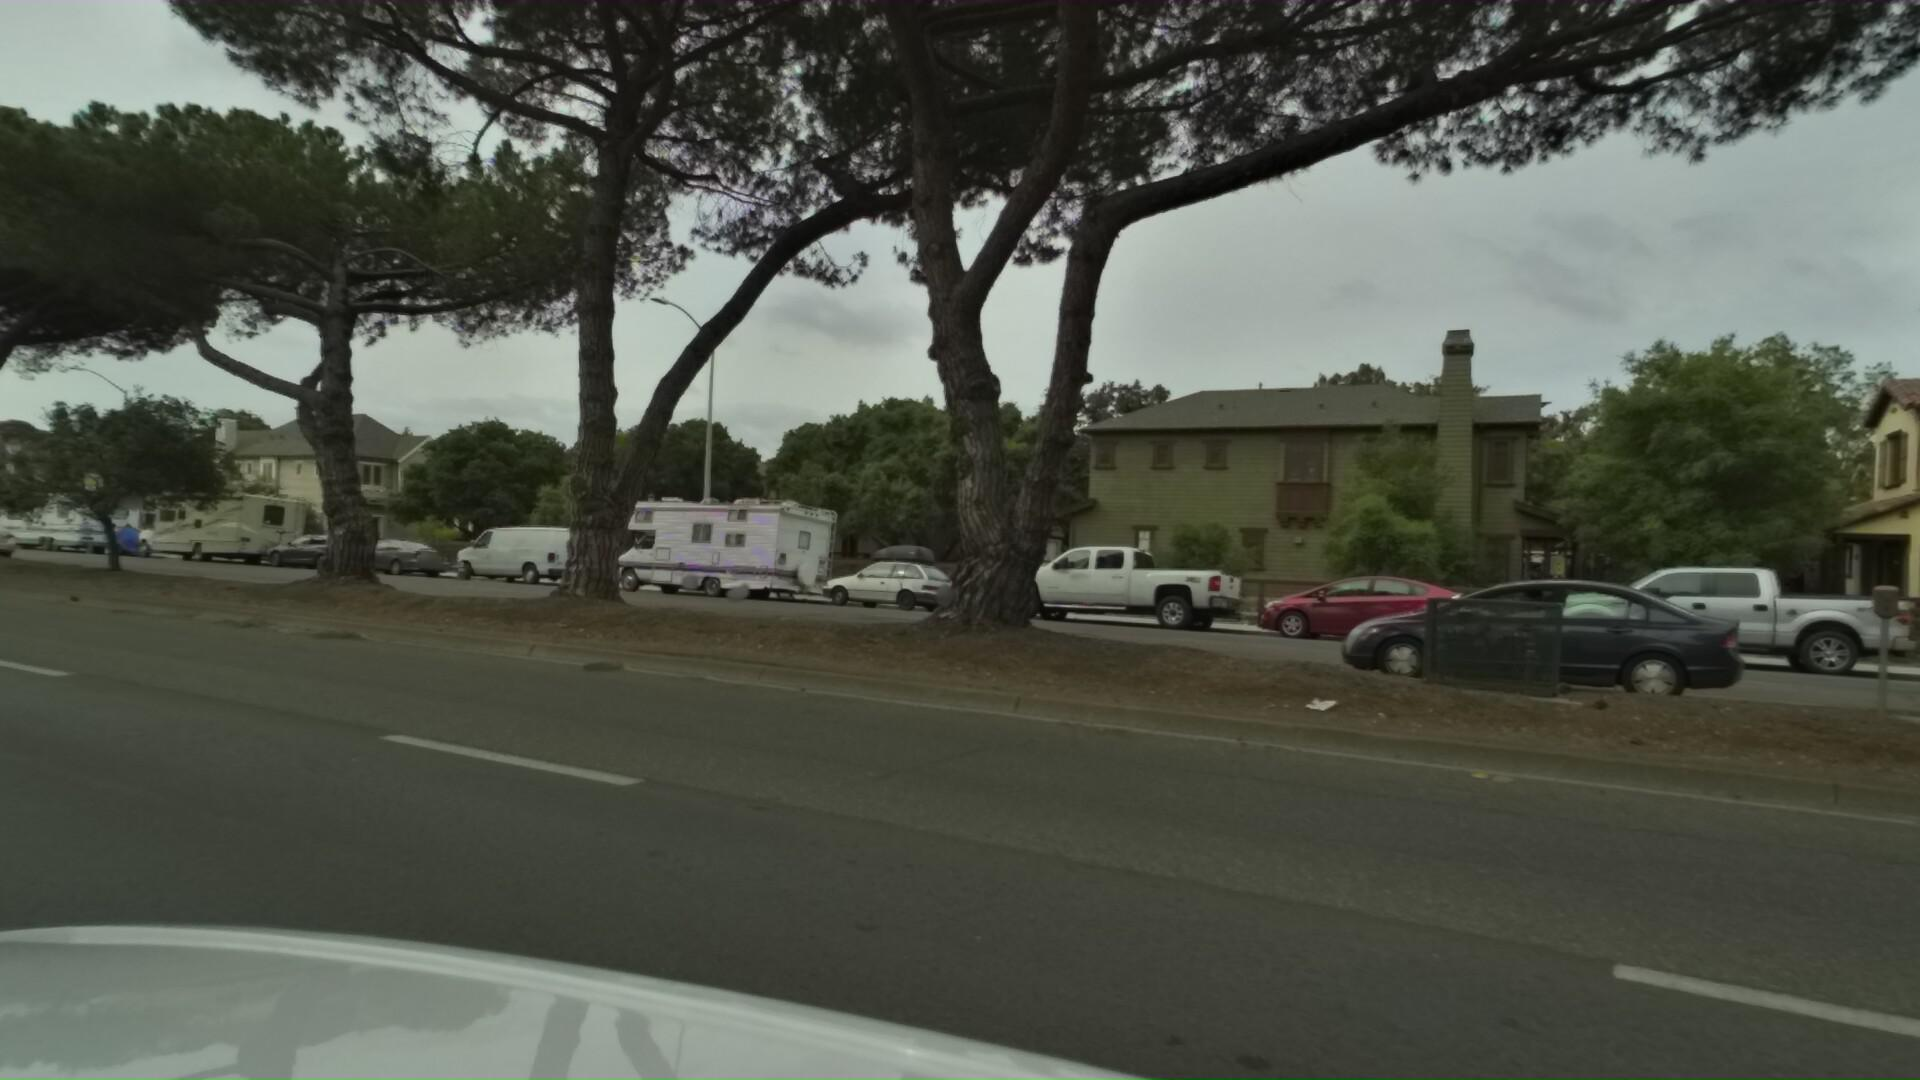bicycle: (0, 522, 40, 555)
car: (1232, 563, 1621, 716), (1487, 553, 1878, 688), (957, 535, 1233, 637), (1215, 564, 1451, 654), (789, 539, 944, 615), (430, 520, 593, 591), (323, 535, 447, 580), (247, 531, 369, 574), (0, 514, 12, 564)
other_vehicle: (589, 495, 828, 607), (119, 483, 307, 568), (0, 479, 179, 564)
